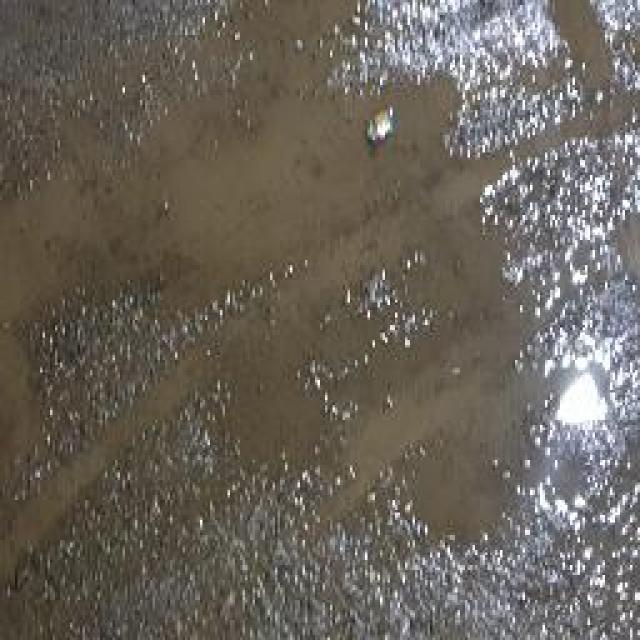stagnation: (25, 13, 640, 558)
